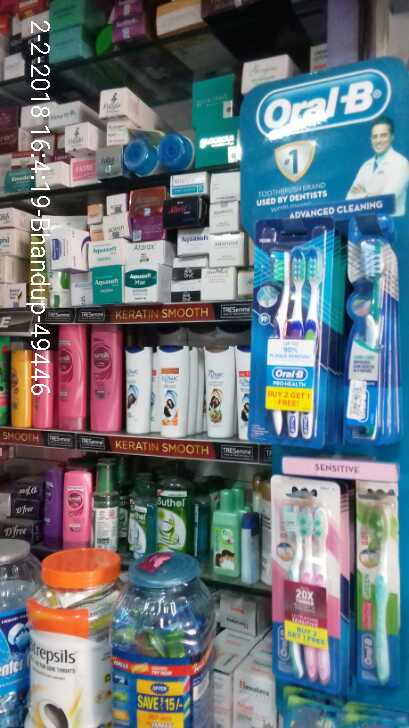oralb: (274, 476, 339, 683), (262, 248, 322, 449), (345, 236, 401, 446), (359, 499, 400, 677)
